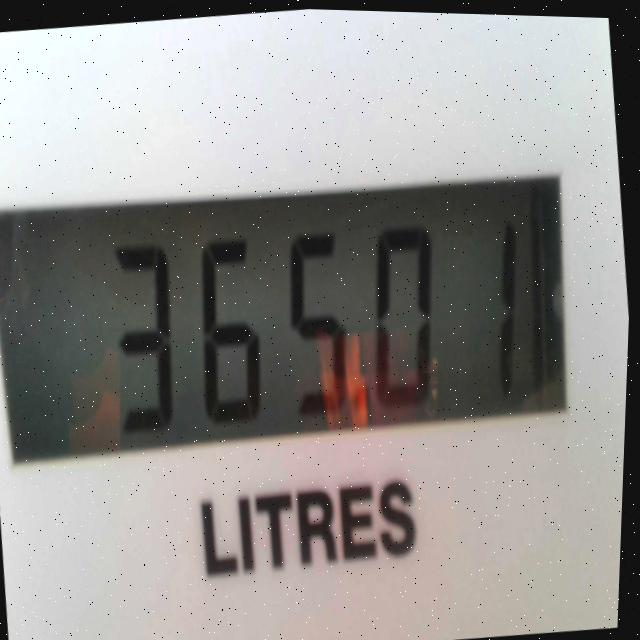.: (352, 364, 372, 403)
0: (362, 220, 449, 412)
1: (483, 208, 540, 396)
3: (110, 240, 190, 434)
5: (280, 234, 356, 407)
6: (193, 239, 270, 420)
